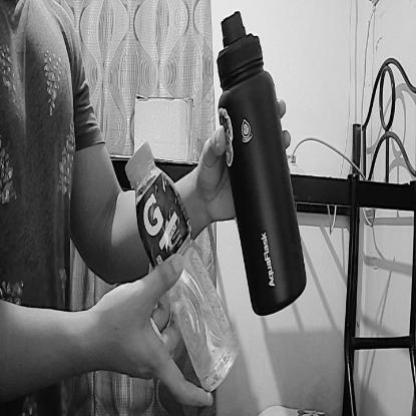Plastic Bottle: (102, 119, 270, 411)
